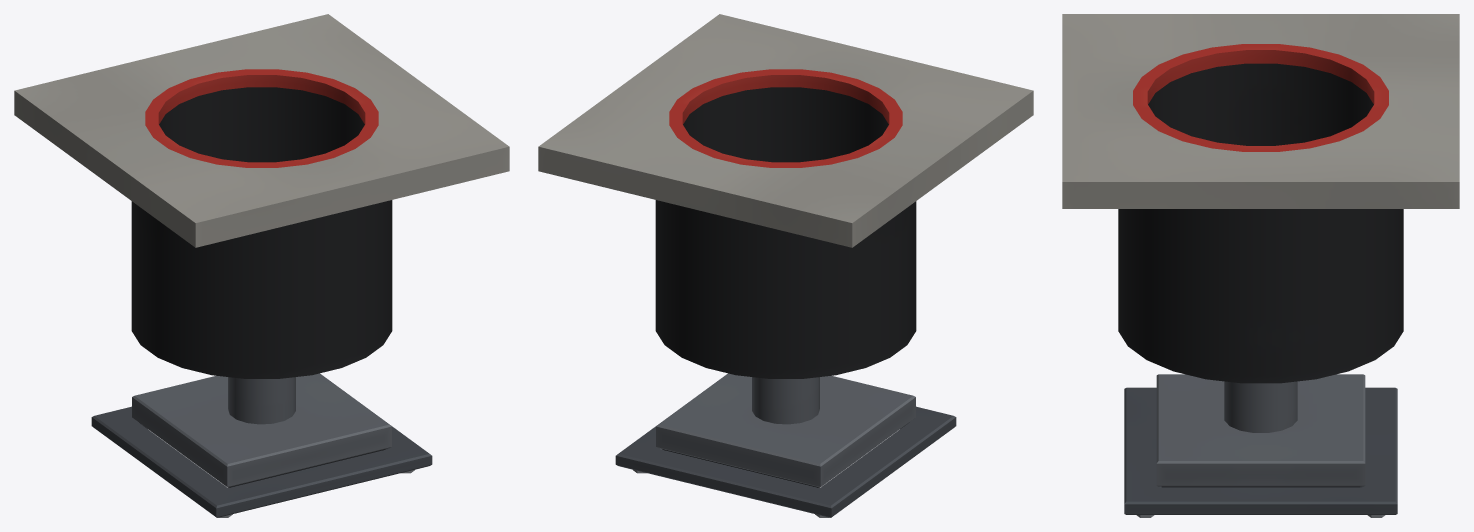
File: frame_gasoline.obj
3 renders of one model, left to right at view 1: azimuth 30°, elevation 25°; view 2: azimuth 150°, elevation 25°; view 3: azimuth 270°, elevation 25°, orthographic. The views are drawn at different scales.
Visible parts, largest first — view 1: fuel_fill_cover__frame_gasoline__top, fuel_fill_cover__frame_gasoline__bucket, fuel_fill_cover__frame_gasoline__riser_base, fuel_fill_cover__frame_gasoline__fport_plate, fuel_fill_cover__frame_gasoline__rim, fuel_fill_cover__frame_gasoline__riser; view 2: fuel_fill_cover__frame_gasoline__top, fuel_fill_cover__frame_gasoline__bucket, fuel_fill_cover__frame_gasoline__riser_base, fuel_fill_cover__frame_gasoline__fport_plate, fuel_fill_cover__frame_gasoline__rim, fuel_fill_cover__frame_gasoline__riser; view 3: fuel_fill_cover__frame_gasoline__bucket, fuel_fill_cover__frame_gasoline__top, fuel_fill_cover__frame_gasoline__riser_base, fuel_fill_cover__frame_gasoline__fport_plate, fuel_fill_cover__frame_gasoline__rim, fuel_fill_cover__frame_gasoline__riser.
Boxes of the visible parts, box(x1,y1,x2,y2) form: fuel_fill_cover__frame_gasoline__top: box(14, 14, 509, 247); fuel_fill_cover__frame_gasoline__bucket: box(131, 87, 392, 378); fuel_fill_cover__frame_gasoline__riser_base: box(132, 373, 391, 487); fuel_fill_cover__frame_gasoline__fport_plate: box(91, 374, 432, 517); fuel_fill_cover__frame_gasoline__rim: box(145, 69, 378, 167); fuel_fill_cover__frame_gasoline__riser: box(228, 377, 295, 424); fuel_fill_cover__frame_gasoline__top: box(538, 14, 1033, 247); fuel_fill_cover__frame_gasoline__bucket: box(655, 87, 916, 378); fuel_fill_cover__frame_gasoline__riser_base: box(656, 373, 915, 487); fuel_fill_cover__frame_gasoline__fport_plate: box(615, 374, 956, 517); fuel_fill_cover__frame_gasoline__rim: box(669, 69, 902, 167); fuel_fill_cover__frame_gasoline__riser: box(752, 377, 819, 424); fuel_fill_cover__frame_gasoline__bucket: box(1118, 63, 1403, 383); fuel_fill_cover__frame_gasoline__top: box(1062, 14, 1459, 208); fuel_fill_cover__frame_gasoline__riser_base: box(1156, 374, 1365, 486); fuel_fill_cover__frame_gasoline__fport_plate: box(1124, 387, 1397, 514); fuel_fill_cover__frame_gasoline__rim: box(1133, 44, 1388, 151); fuel_fill_cover__frame_gasoline__riser: box(1224, 381, 1297, 432).
Bounding box in the file's own units: 1 × 1.02 × 1.
